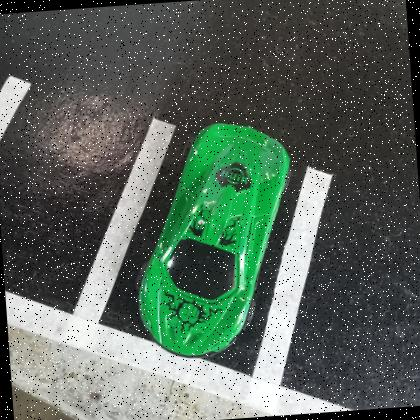Car: (136, 123, 290, 359)
